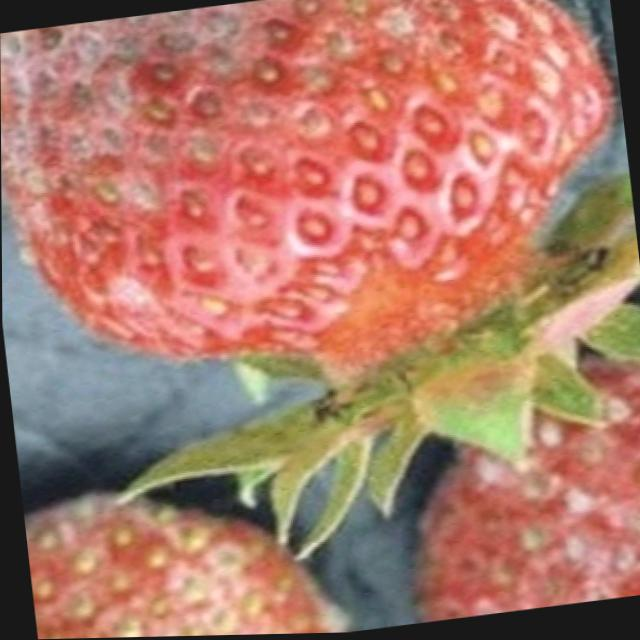Powdery Mildew Fruit: (0, 0, 616, 395), (410, 350, 640, 625), (22, 495, 352, 639)
